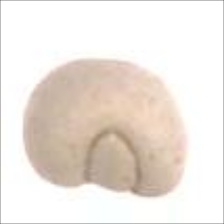L5: (83, 126, 141, 194)
L6: (20, 56, 188, 199)
